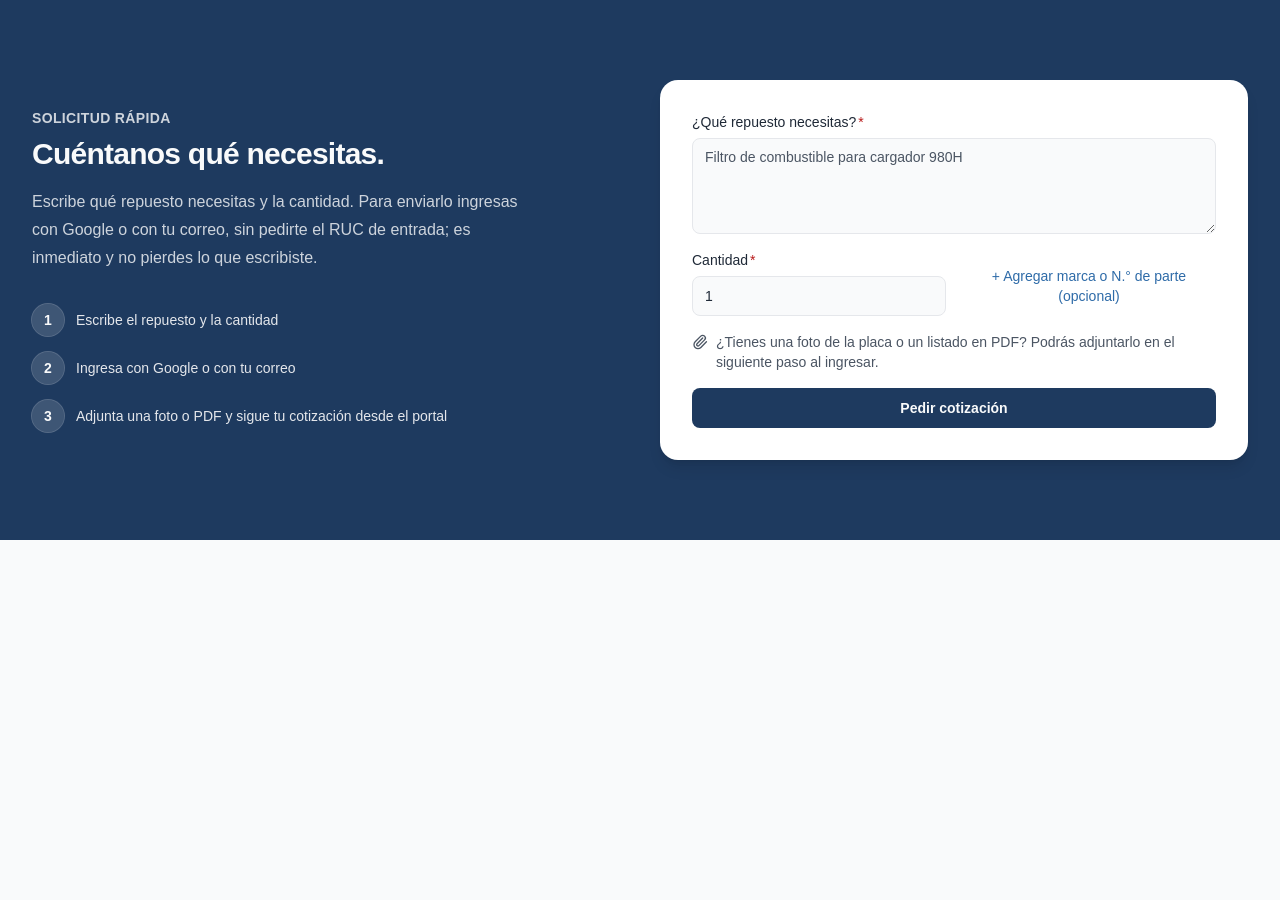
it: SolicitudRapida (D-16, D-30) › deja a la vista el repuesto y la cantidad, y pliega marca y N.º de parte bajo un enlace
expect the text box labelled "¿Qué repuesto necesitas?*" is shown: met, box [692,138,1216,234]
expect the field labelled "Cantidad*" is shown: met, box [692,276,946,316]
Click the button "+ Agregar marca o N.° de parte (opcional)" at (1089, 286), box [962,266,1216,306]
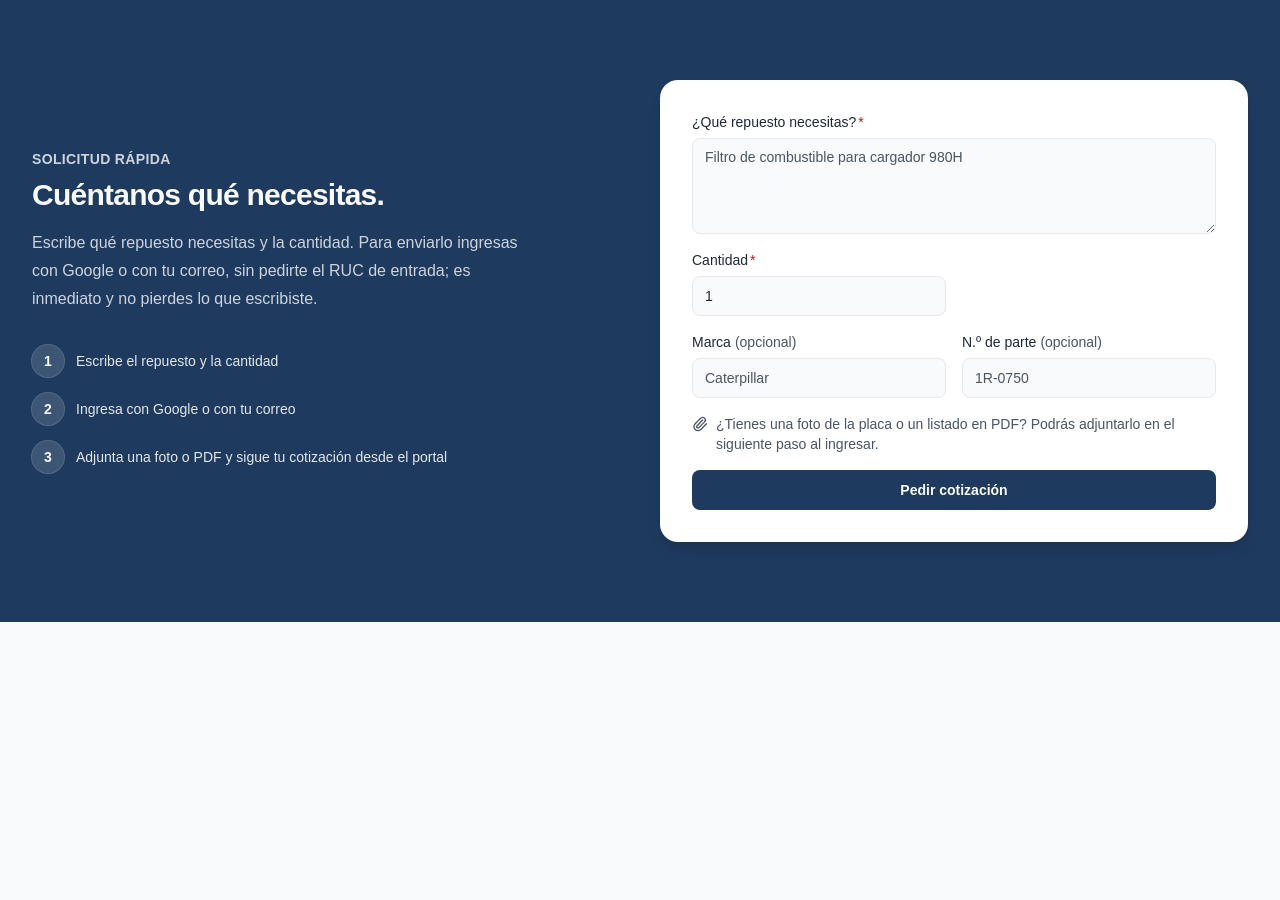
expect the field labelled "Marca(opcional)" is shown: met, box [692,358,946,398]
expect the field labelled "N.º de parte(opcional)" is shown: met, box [962,358,1216,398]
expect the button "+ Agregar marca o N.° de parte (opcional)" is gone: met
